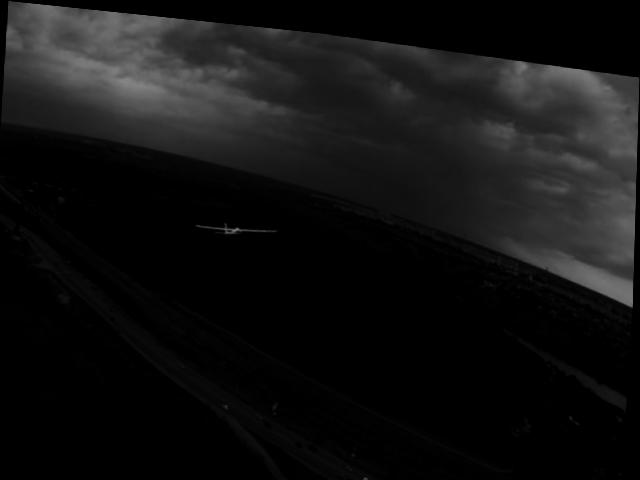hedef: (186, 205, 282, 238)
